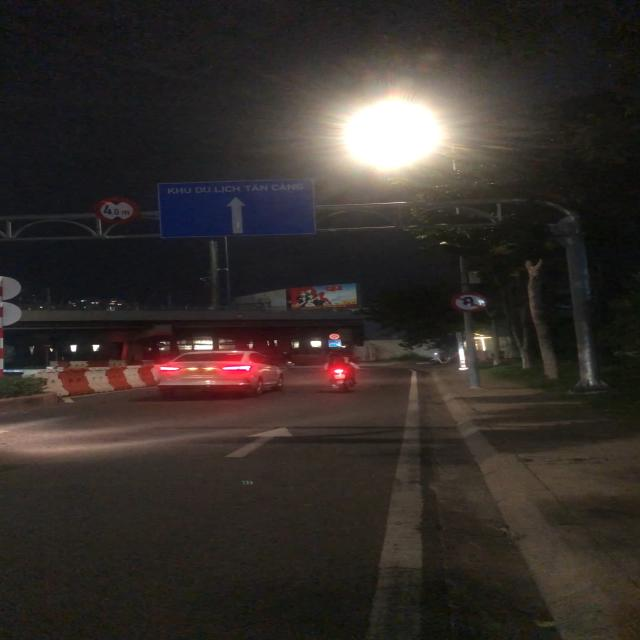Bien bao cam quay dau xe: (450, 290, 490, 314)
Bien bao han che chieu cao: (91, 192, 142, 225)
